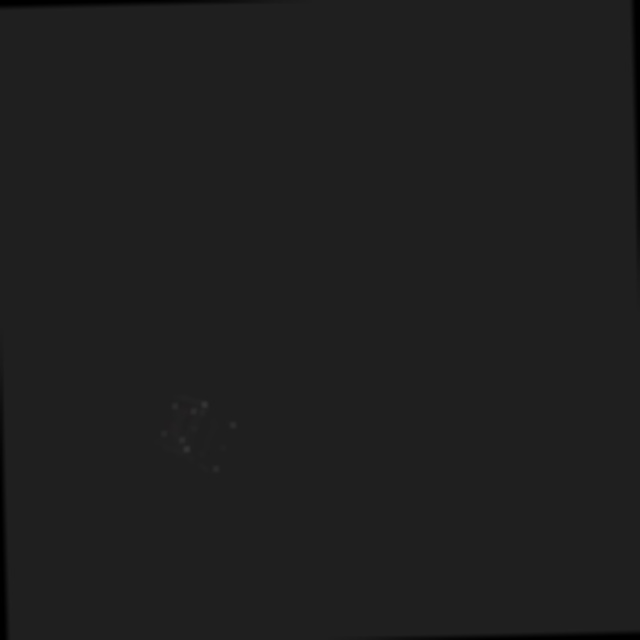satellite: (153, 389, 233, 477)
